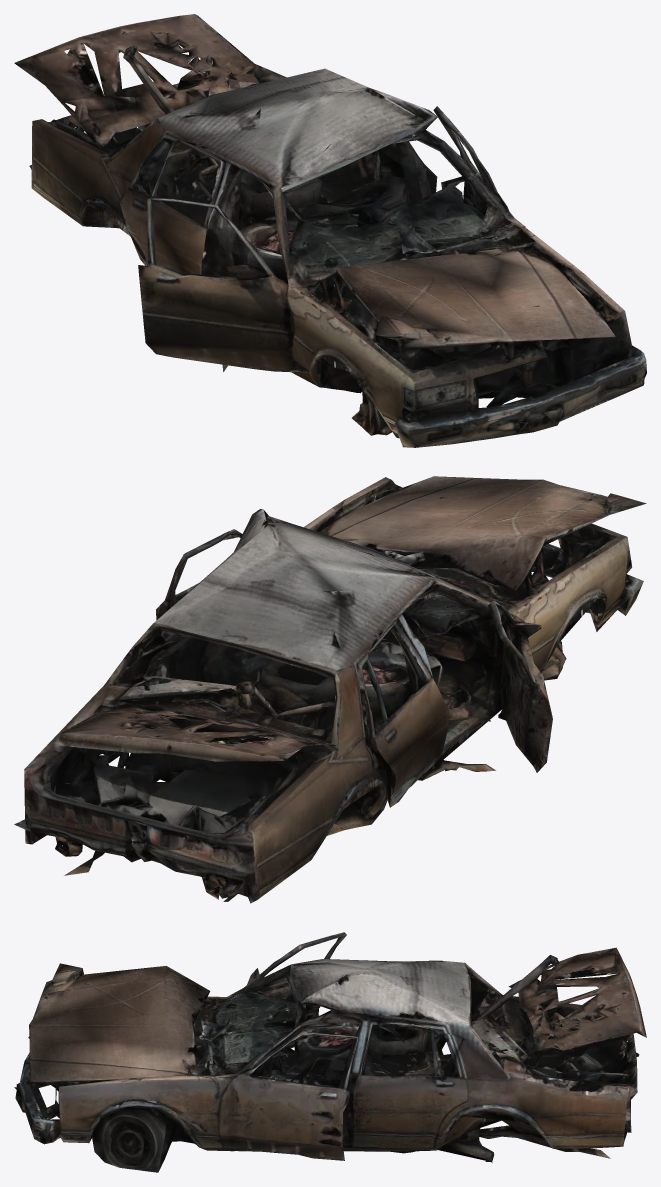
The model's file is car_destroyed.glb.
The picture shows the model from 3 angles, top to bottom: view 1: azimuth 30°, elevation 25°; view 2: azimuth 150°, elevation 25°; view 3: azimuth 270°, elevation 25°; orthographic projection. The views are drawn at different scales.
Visible parts, largest first — view 1: Box001_caprice_low_Material_u1_v1_0; view 2: Box001_caprice_low_Material_u1_v1_0; view 3: Box001_caprice_low_Material_u1_v1_0.
Boxes of the visible parts, x1,y1,x2,y2 form: Box001_caprice_low_Material_u1_v1_0: [14, 14, 646, 447]; Box001_caprice_low_Material_u1_v1_0: [14, 476, 646, 903]; Box001_caprice_low_Material_u1_v1_0: [14, 932, 646, 1172].
Size of the model in its own units: 1.63 by 0.948 by 3.15.
Materials: 1 (1 with a texture image).
